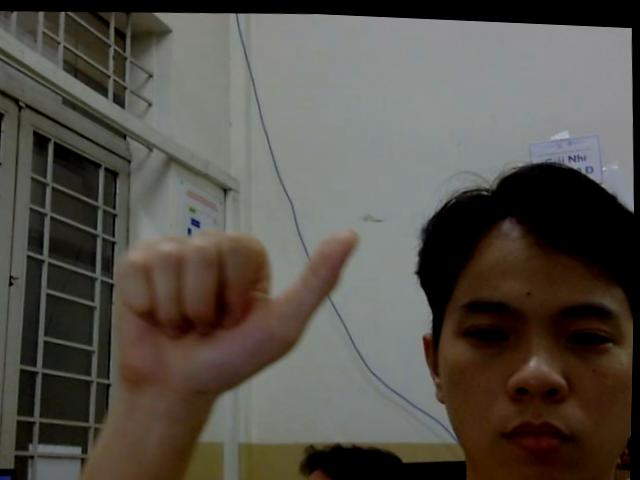A: (98, 220, 371, 408)
